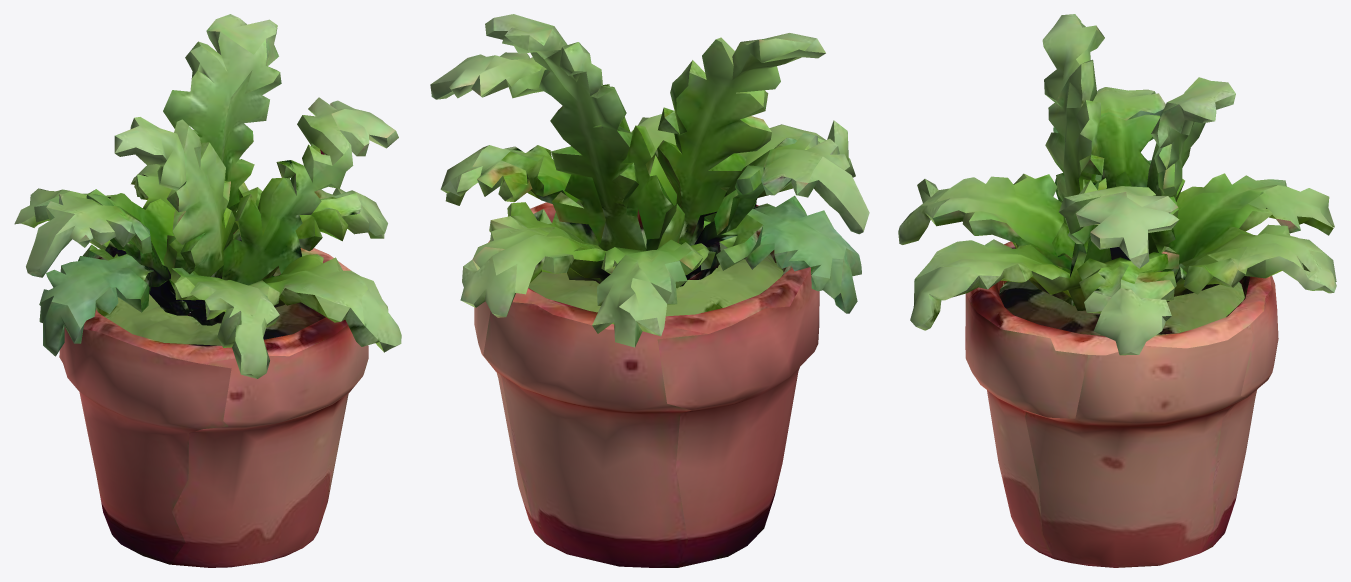
The model's file is plantpot.glb.
The picture shows the model from 3 angles, left to right: view 1: azimuth 30°, elevation 25°; view 2: azimuth 150°, elevation 25°; view 3: azimuth 270°, elevation 25°; orthographic projection. The views are drawn at different scales.
Parts seen in each view (by area): view 1: plantpot_s21; view 2: plantpot_s21; view 3: plantpot_s21.
Boxes of the visible parts, x1=… form: plantpot_s21: x1=14, y1=14, x2=401, y2=567; plantpot_s21: x1=430, y1=14, x2=869, y2=567; plantpot_s21: x1=898, y1=14, x2=1336, y2=567.
Bounding box in the file's own units: 0.8558 × 1 × 0.849.
1 material, 1 textured.
